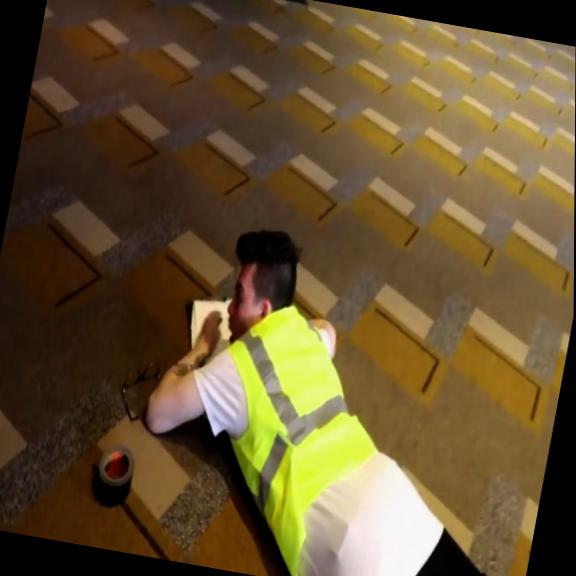safety_vest: (189, 292, 409, 576)
